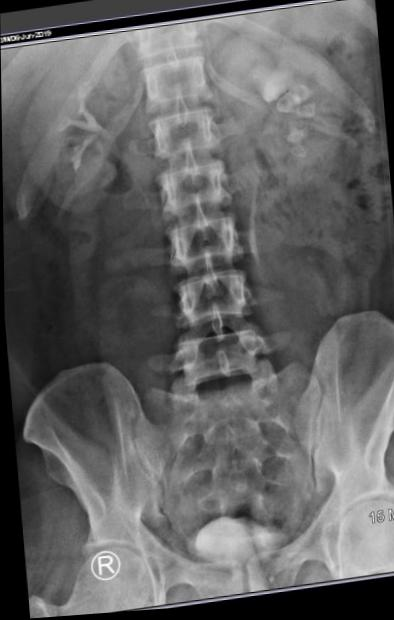bladder: (181, 508, 310, 600)
left kidney: (221, 0, 371, 199)
right kidney: (8, 27, 135, 219)
vertebrae: (151, 91, 232, 155)
